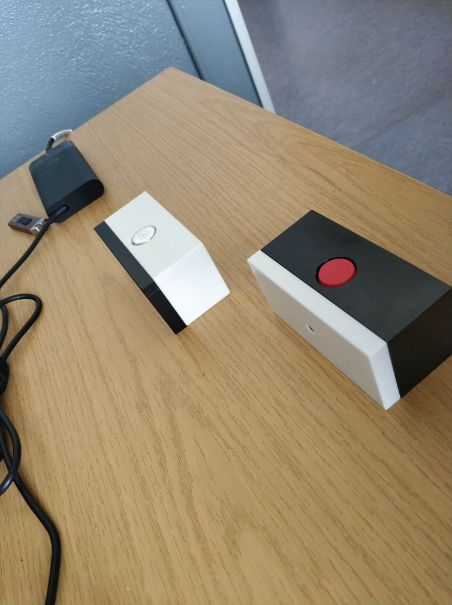black+white+silver: (90, 188, 232, 338)
white+black+red: (244, 208, 452, 413)
